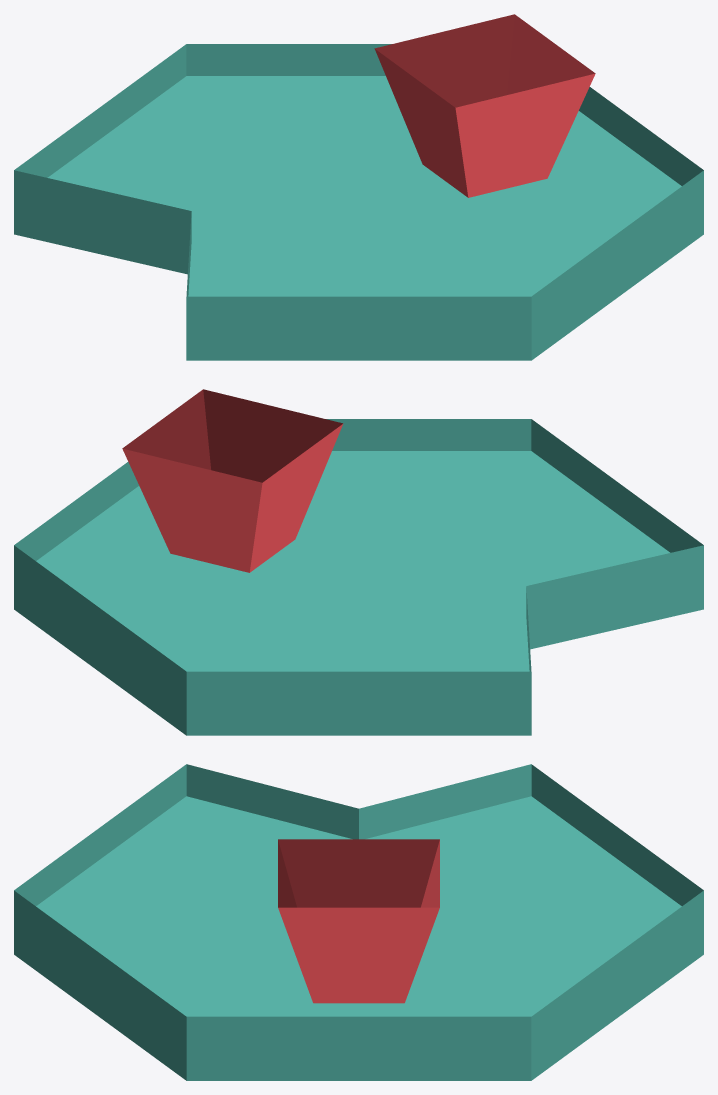
The model's file is lily_large.obj.
3 views of the same model, one above another, from view 1: azimuth 30°, elevation 25°; view 2: azimuth 150°, elevation 25°; view 3: azimuth 270°, elevation 25° (orthographic).
Visible parts, largest first — view 1: lily_large; view 2: lily_large; view 3: lily_large.
Boxes of the visible parts, bbox=[...] form: lily_large: bbox=[14, 14, 703, 360]; lily_large: bbox=[14, 389, 703, 735]; lily_large: bbox=[14, 764, 703, 1080].
Size of the model in its own units: 2.78 by 0.733 by 3.21.
